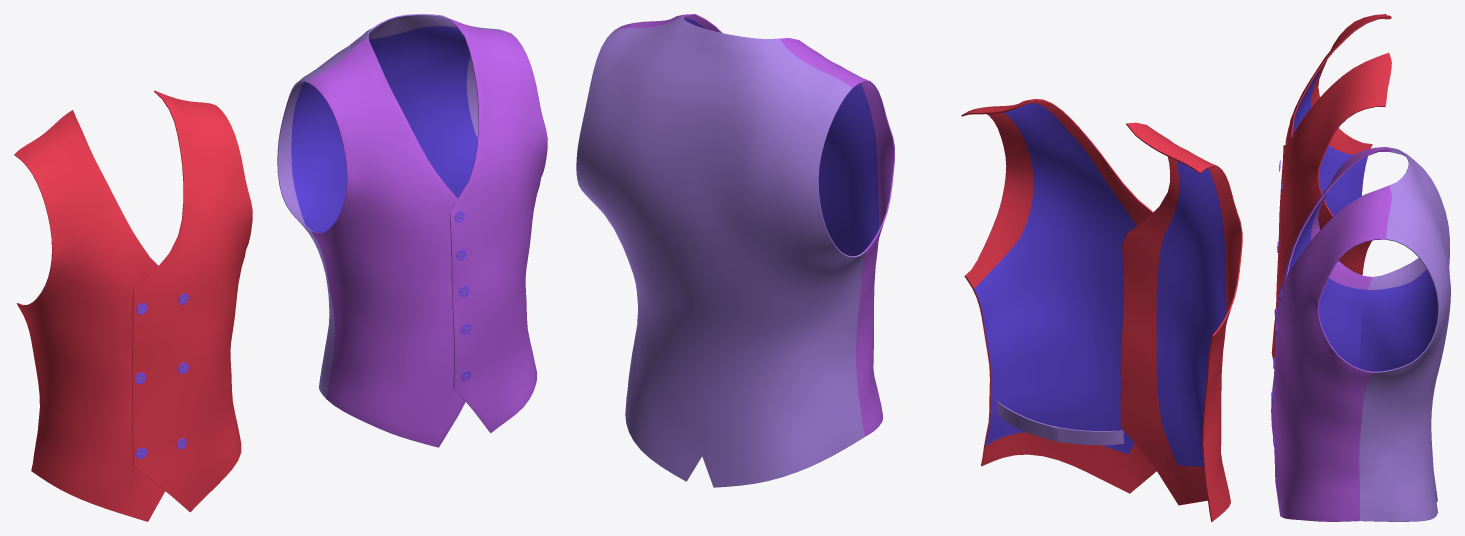
File: Waistcoat_03.fbx
The picture shows the model from 3 angles, left to right: view 1: azimuth 30°, elevation 25°; view 2: azimuth 150°, elevation 25°; view 3: azimuth 270°, elevation 25°; orthographic projection. The views are drawn at different scales.
Parts seen in each view (by area): view 1: CSA_Waiscoat_Front_SB001; view 2: CSA_Waiscoat_Front_SB001; view 3: CSA_Waiscoat_Front_SB001.
Boxes of the visible parts, x1,y1,x2,y2 form: CSA_Waiscoat_Front_SB001: [14, 14, 547, 521]; CSA_Waiscoat_Front_SB001: [576, 14, 1242, 521]; CSA_Waiscoat_Front_SB001: [1271, 14, 1450, 521].
Size of the model in its own units: 86.64 by 60.87 by 28.61.
